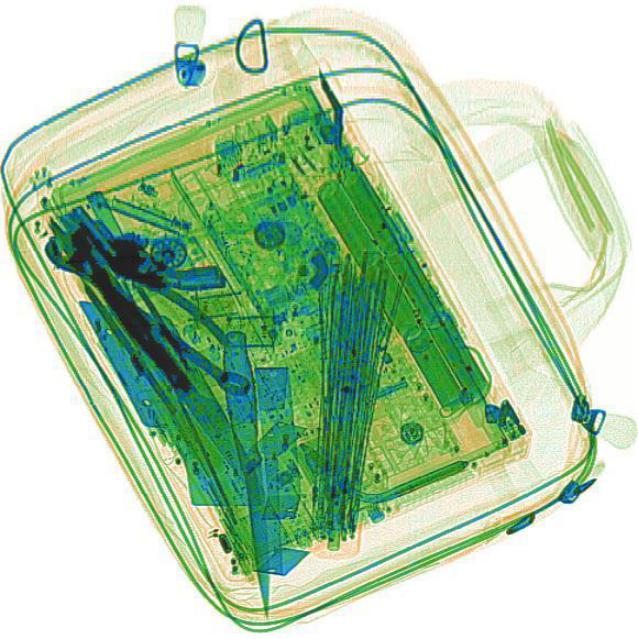Gun: (68, 165, 229, 326)
Knife: (80, 258, 293, 517), (218, 328, 278, 617)
Wrench: (34, 217, 263, 404)
